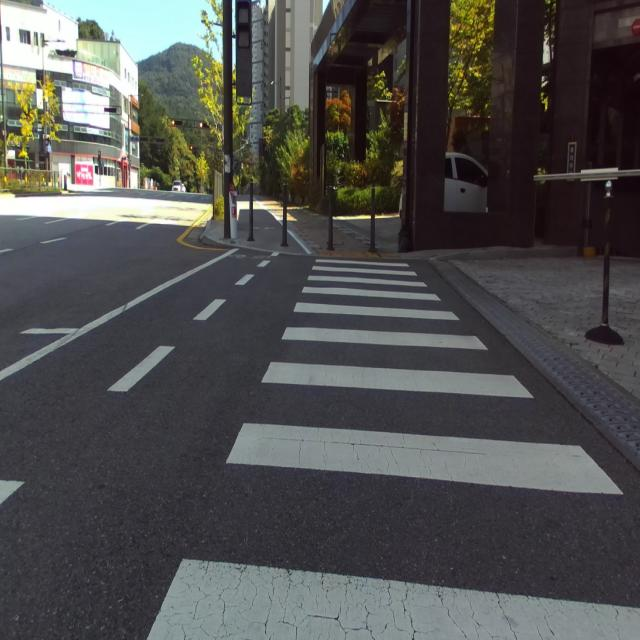횡단보도: (146, 258, 640, 640)
